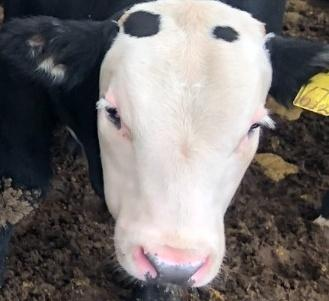muzzles: (118, 234, 223, 293)
